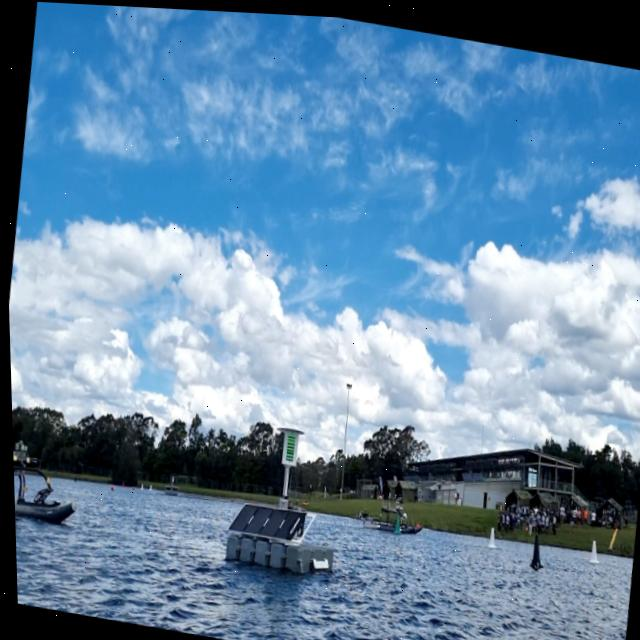led: (279, 427, 296, 461)
